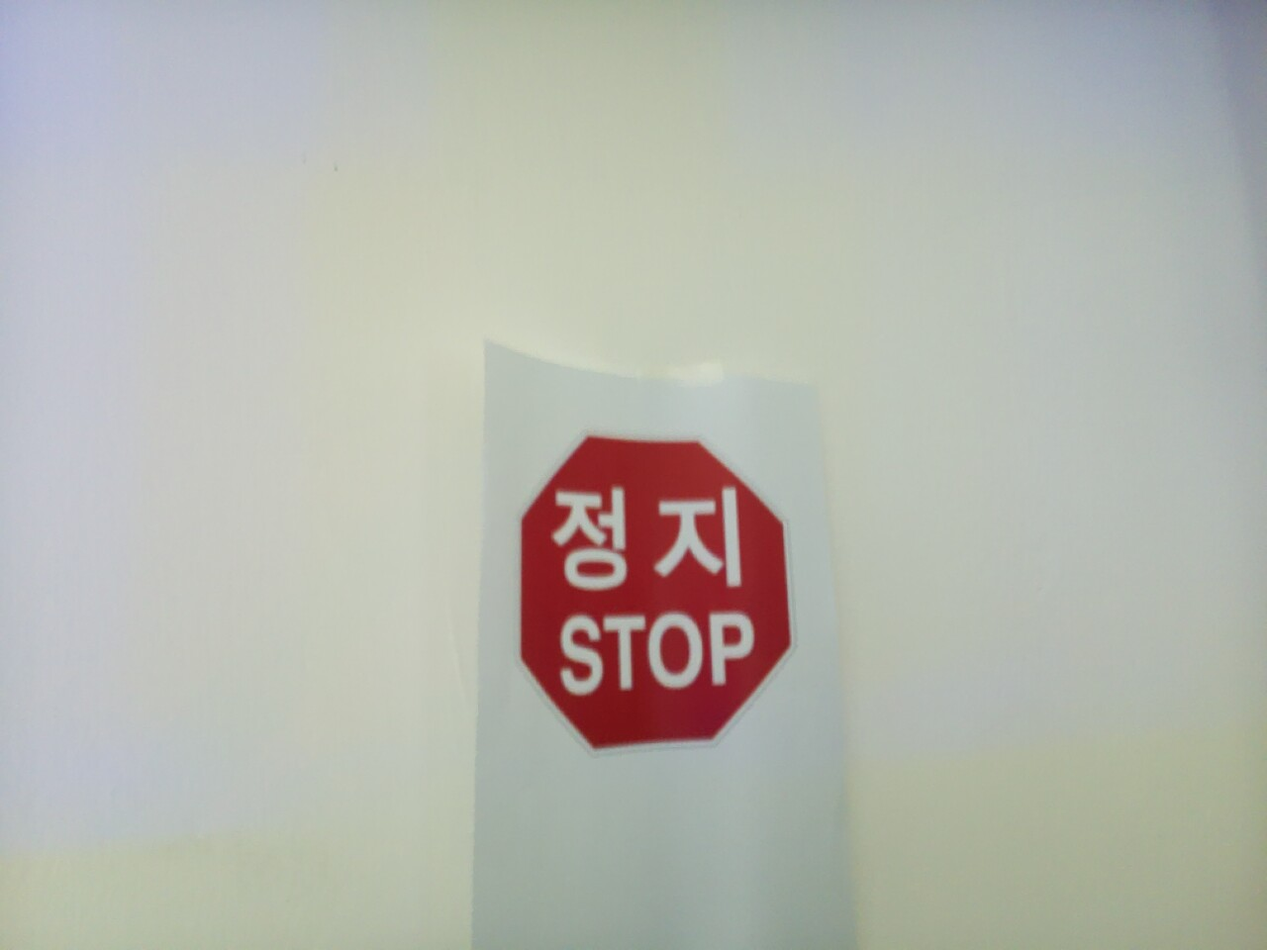stop: (512, 427, 800, 759)
